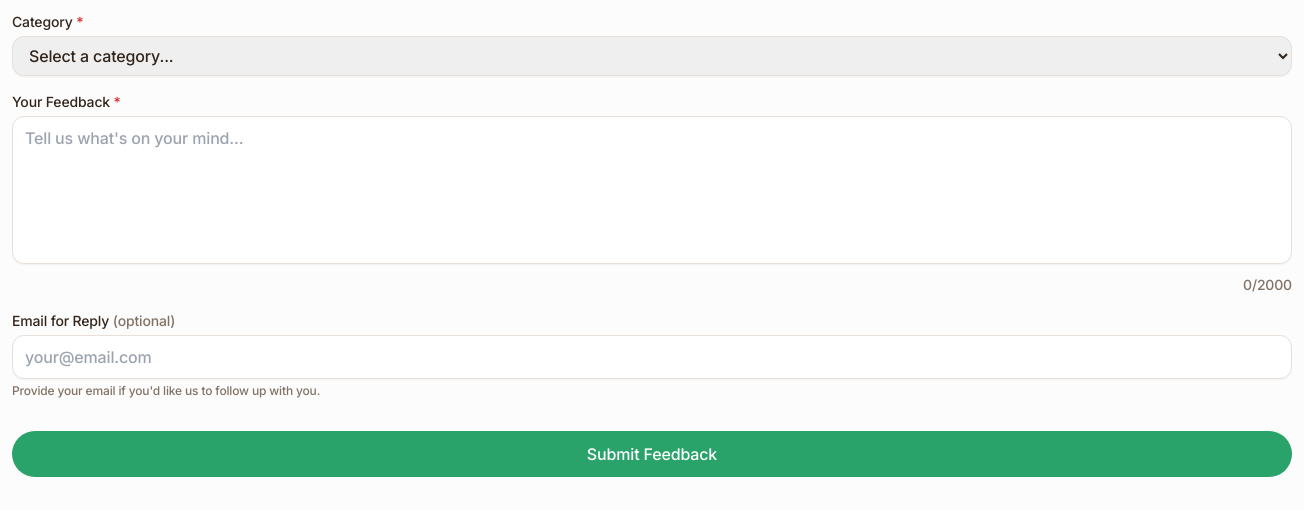
FeedbackForm › Message Validation › shows error for message under 10 characters
Select "General Feedback" in the dropdown labelled "Category *" at (652, 56), box x1=12 y1=36 x2=1292 y2=76
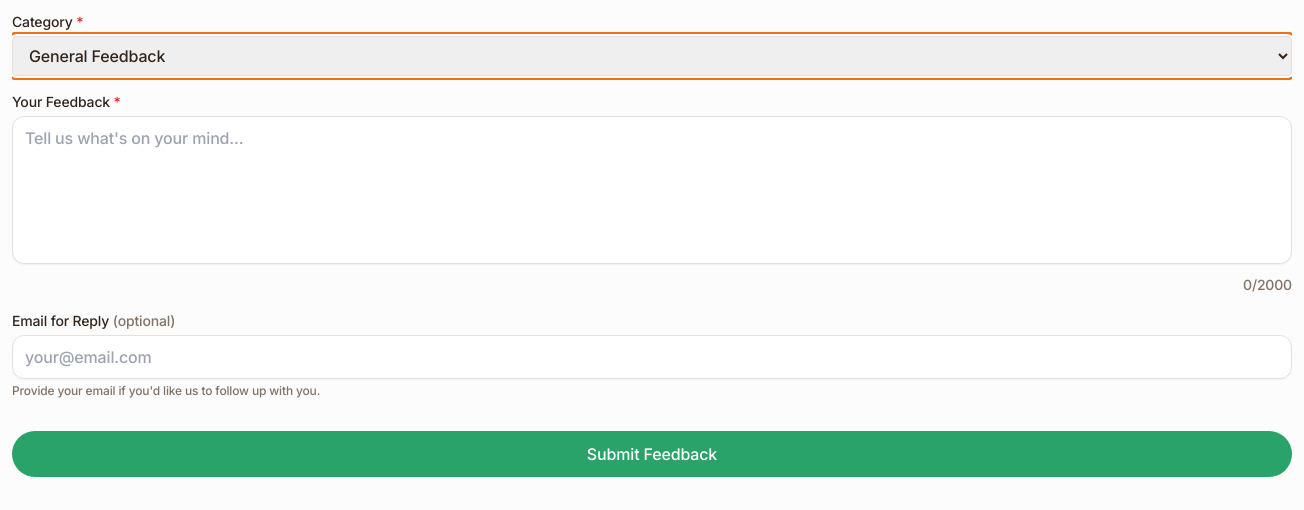
Type "Short" into the text box labelled "Your Feedback *".
click(652, 190); type("Short")  # box x1=12 y1=116 x2=1292 y2=264
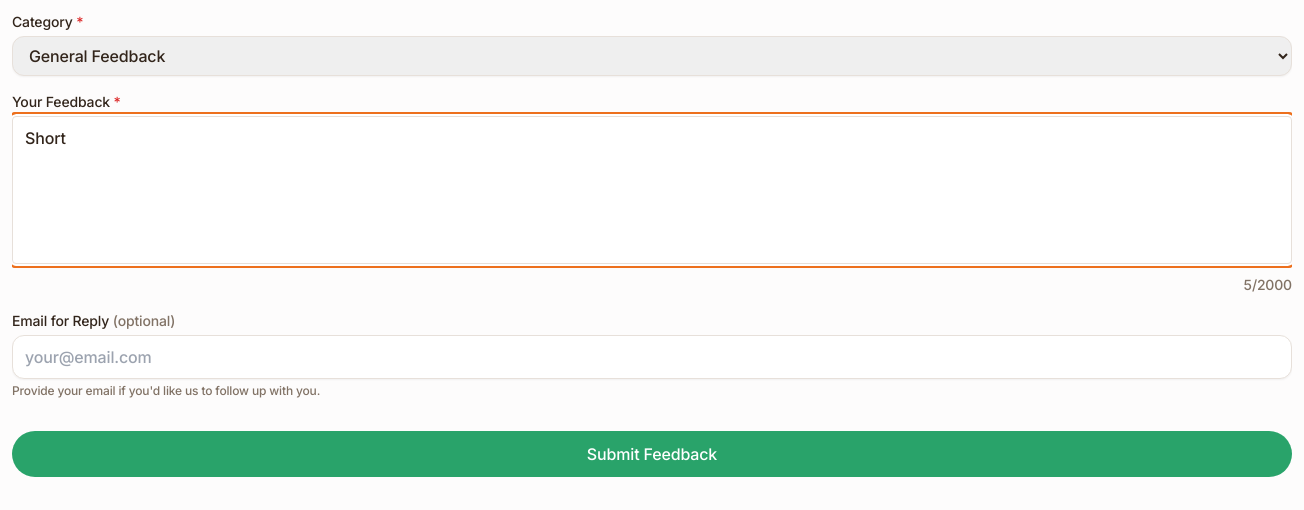
Click the button "Submit Feedback".
click(652, 454)  # box x1=12 y1=431 x2=1292 y2=477
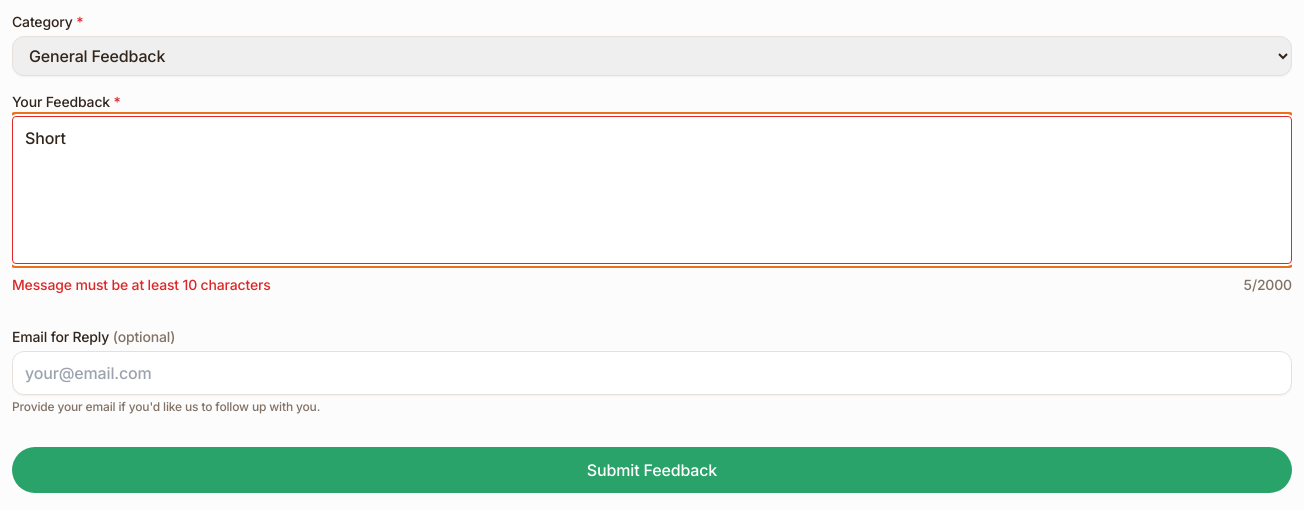
Check: the text "Message must be at least 10 characters" is shown, box x1=12 y1=275 x2=271 y2=295
